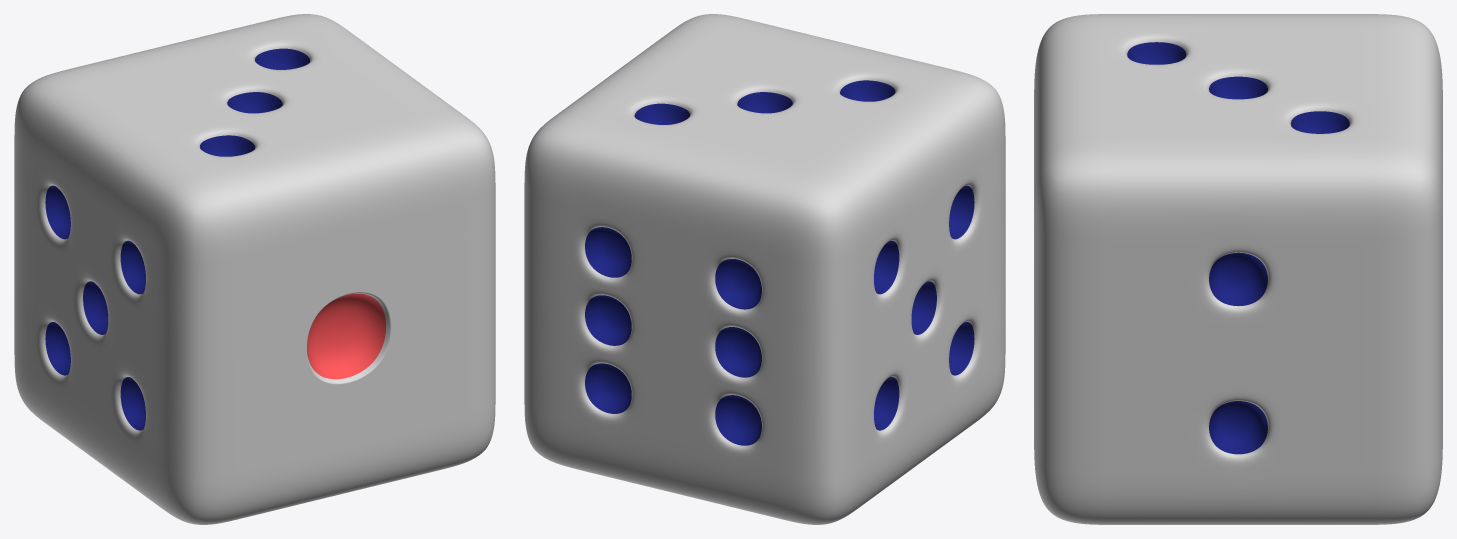
3 views of the same model, side by side, from view 1: azimuth 30°, elevation 25°; view 2: azimuth 150°, elevation 25°; view 3: azimuth 270°, elevation 25° (orthographic). The views are drawn at different scales.
Parts seen in each view (by area): view 1: 骰子; view 2: 骰子; view 3: 骰子.
Part boxes in pixels (left/top/right/bottom): 骰子: left=14, top=14, right=495, bottom=524; 骰子: left=524, top=14, right=1005, bottom=524; 骰子: left=1034, top=14, right=1442, bottom=524.
Bounding box in the file's own units: 2 × 2 × 2.
